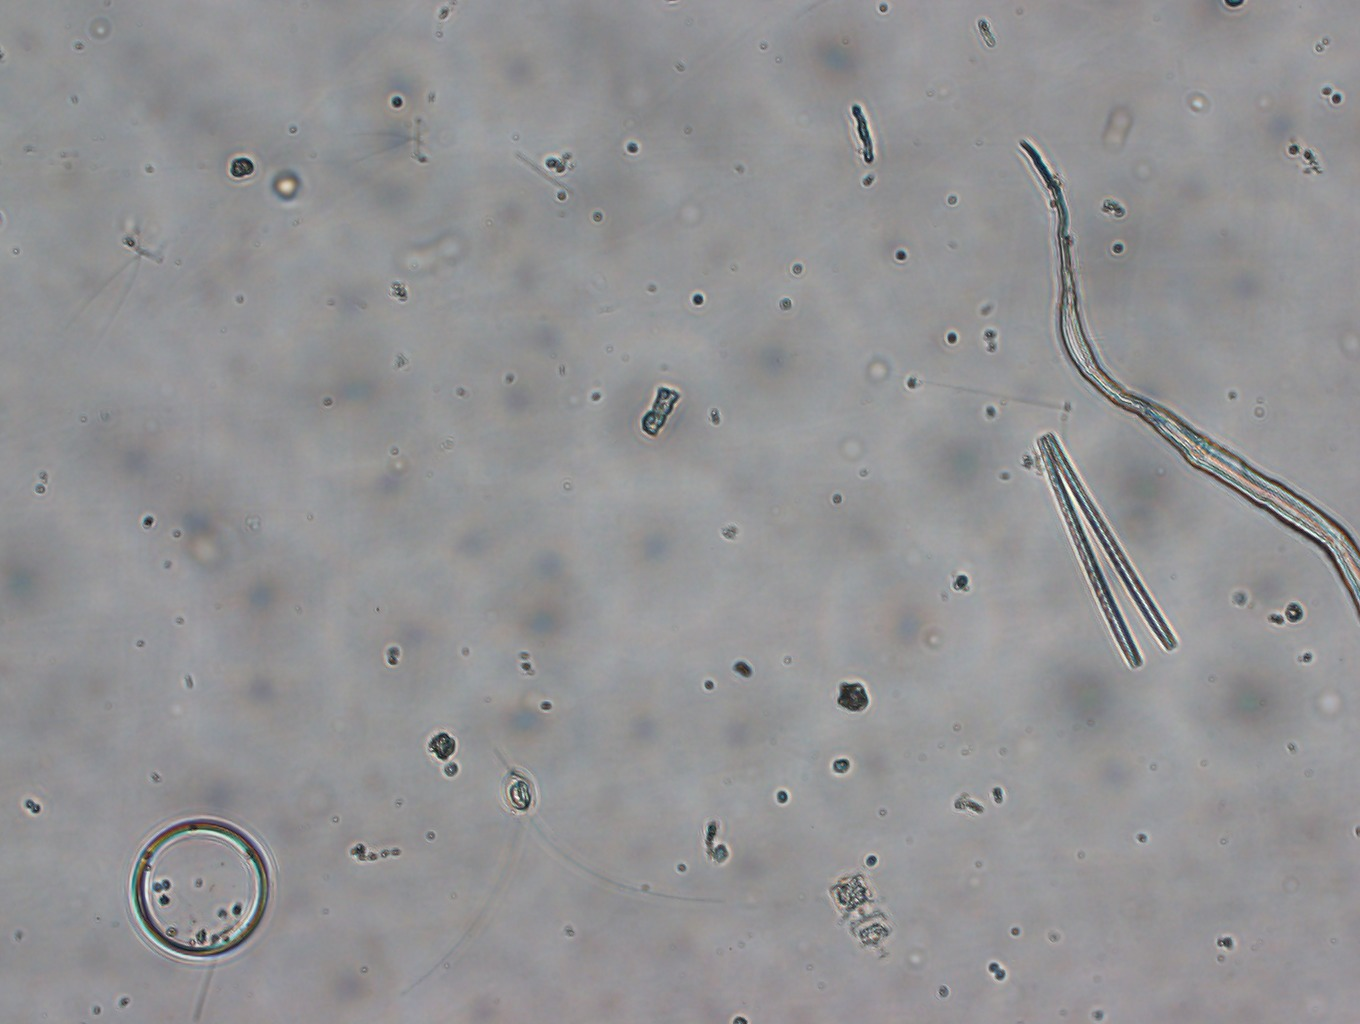coscinodiscus: (121, 810, 280, 966)
thalassionema frauenfeldii: (1020, 422, 1192, 674)
